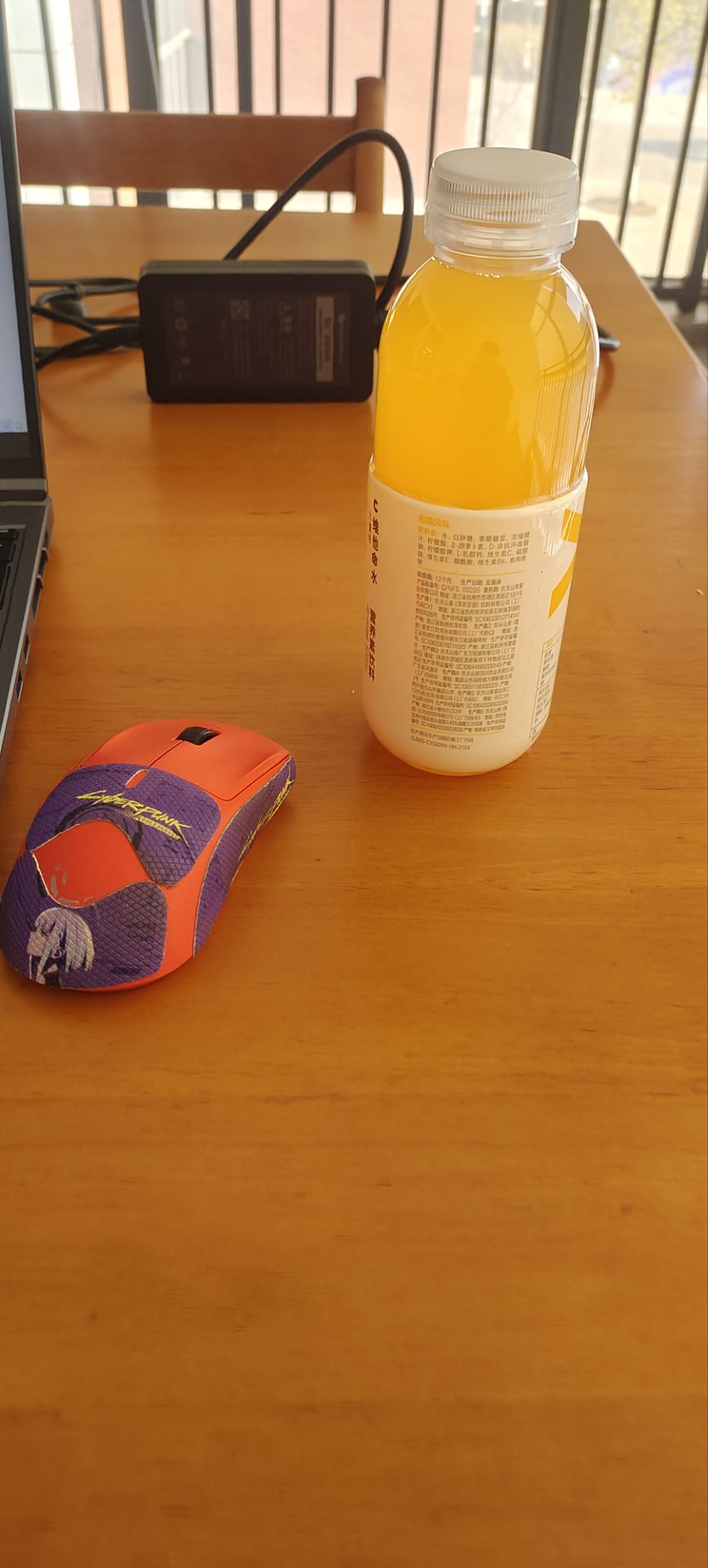redbull: (333, 137, 581, 797)
